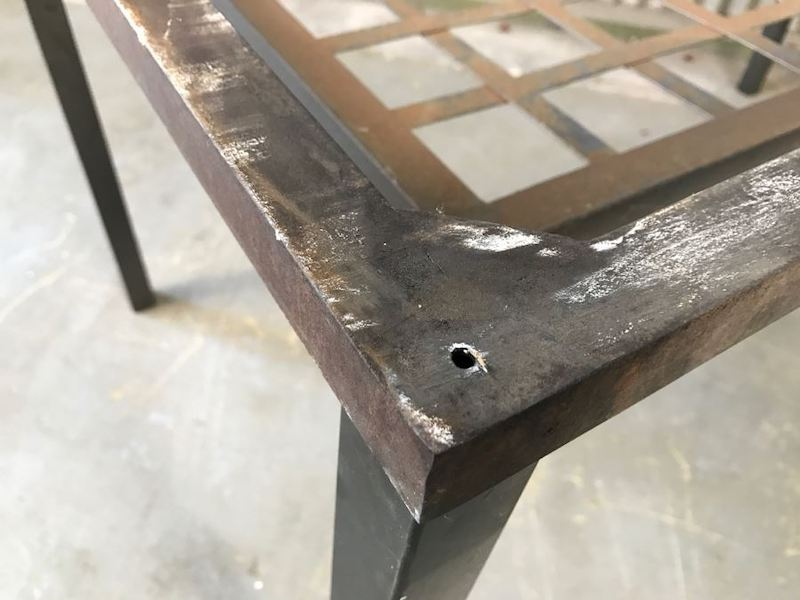hole: (447, 342, 482, 373)
